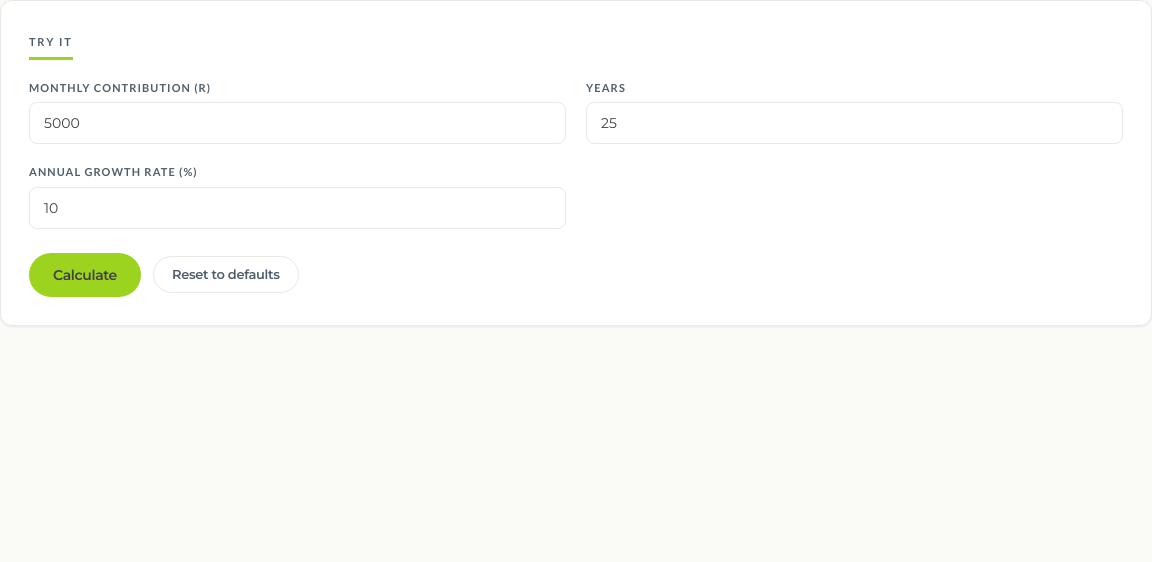
Test: InteractiveCalculator › reset clears values and hides the result
Replace the text in the number field labelled "Years" with "35" at [854, 123], box x1=586 y1=102 x2=1123 y2=144
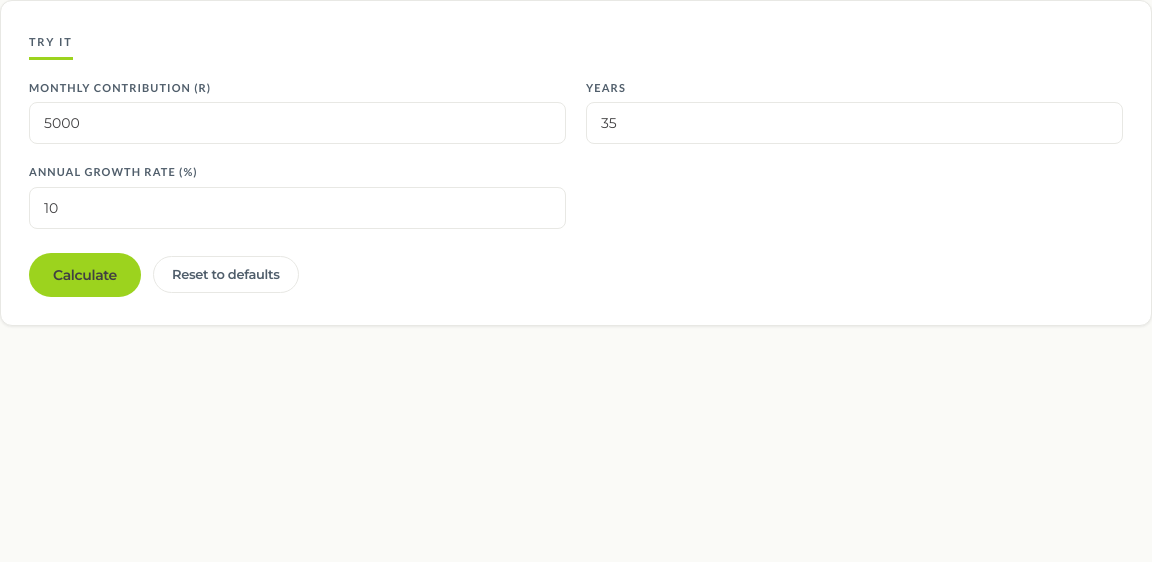
Click the button "Calculate" at [85, 274], box x1=29 y1=252 x2=141 y2=296
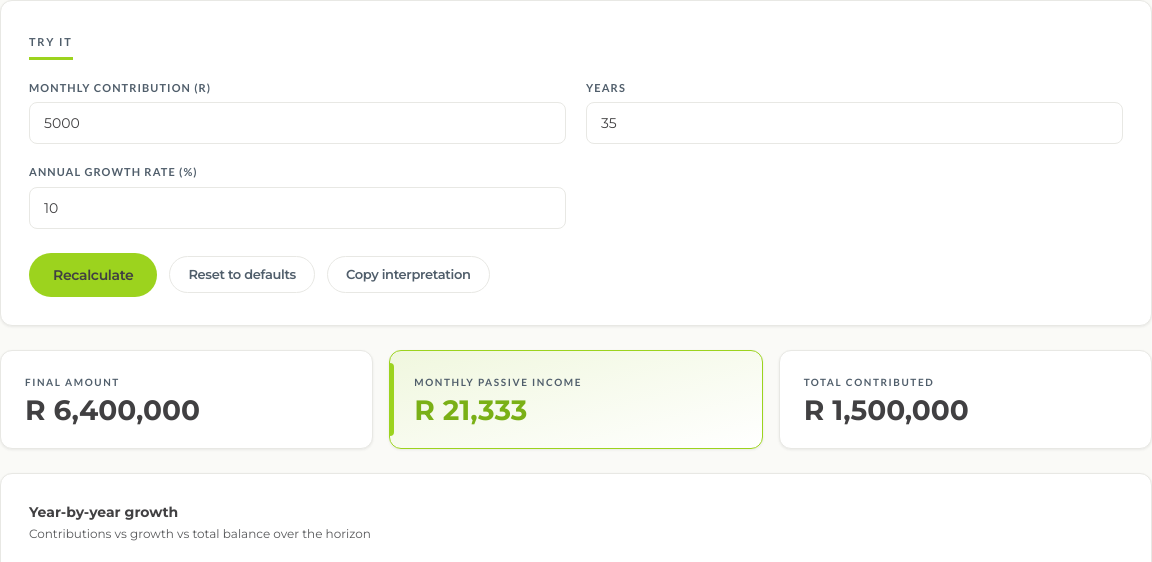
expect the text "Final amount" is shown: met, box x1=25 y1=376 x2=120 y2=388
Click the button "Reset to defaults" at [242, 275], box x1=169 y1=256 x2=315 y2=293
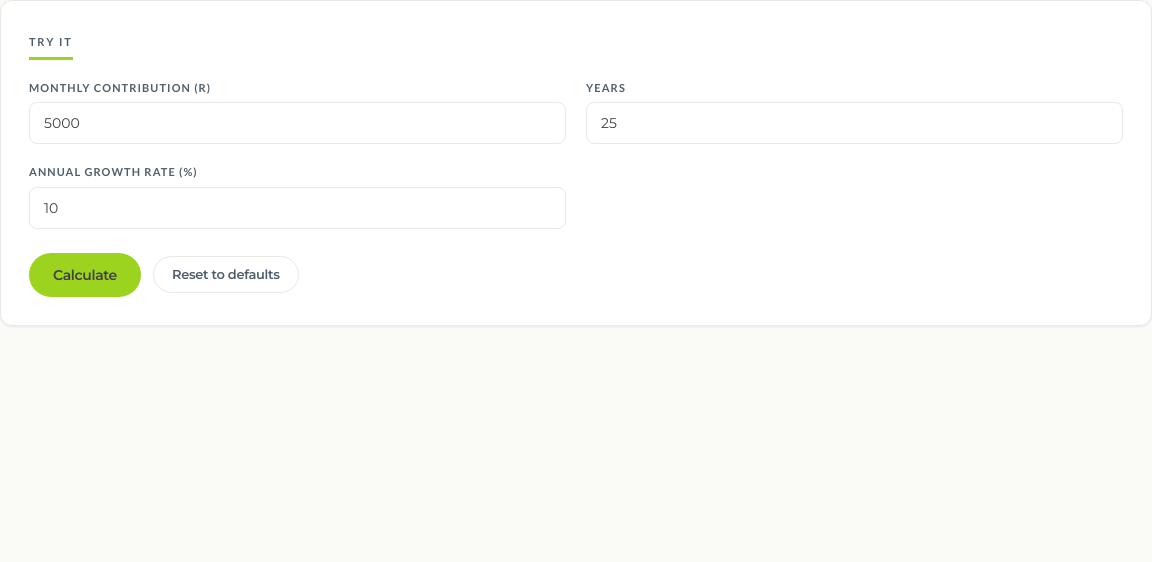
expect the number field labelled "Years" holds "25": met, box x1=586 y1=102 x2=1123 y2=144
expect the text "Final amount" is gone: met
